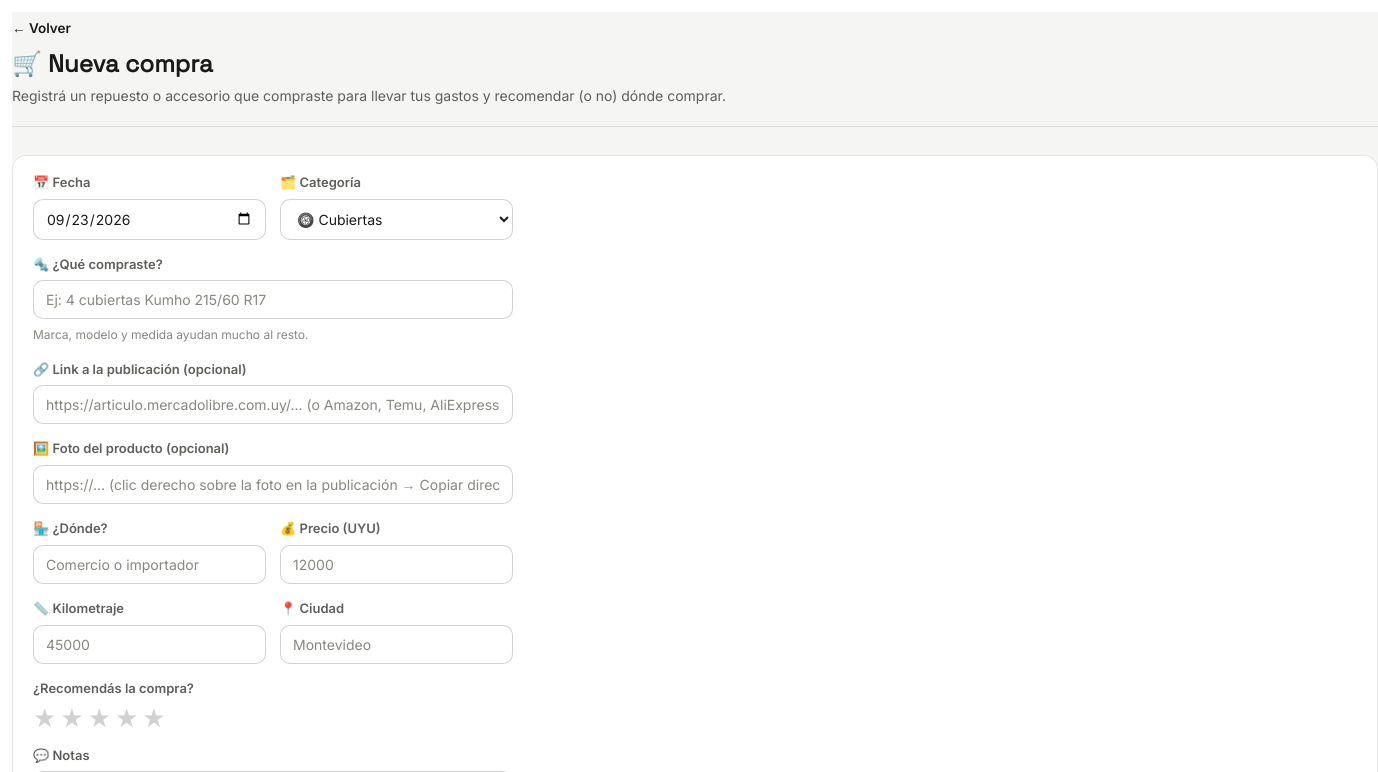
Scenario: NewPartPurchasePage › hides the odometer field for accessory categories and updates the placeholder
This screenshot has width=1378, height=772.
Expected: the field labelled "📏 Kilometraje" is shown, [33,625,266,664]
Select "📱 Carlinkit (Android Auto)" in the dropdown labelled "🗂️ Categoría" at (396, 219), box [280,199,513,240]
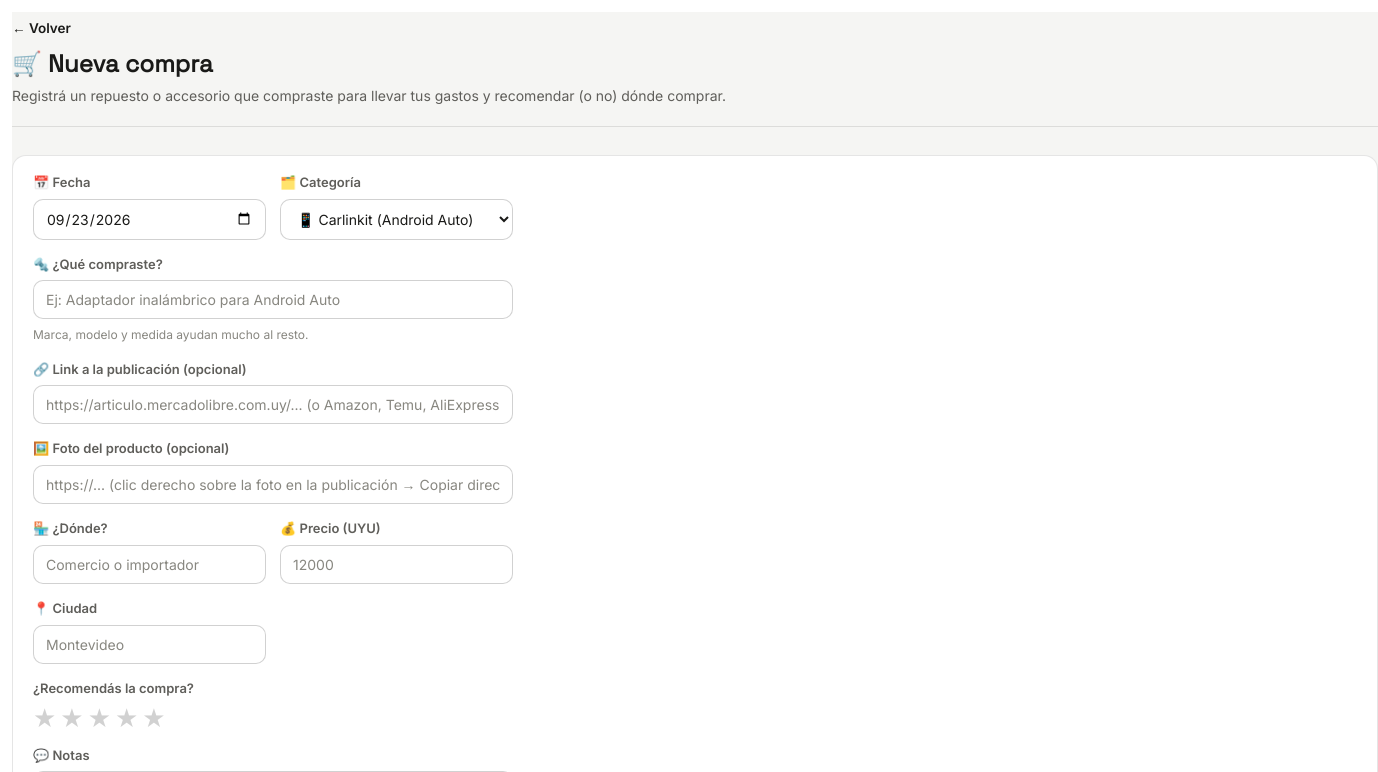
Now the label labelled "📏 Kilometraje" is gone
Now the field with placeholder "Ej: Adaptador inalámbrico para Android Auto" is shown, box [33,280,513,319]
